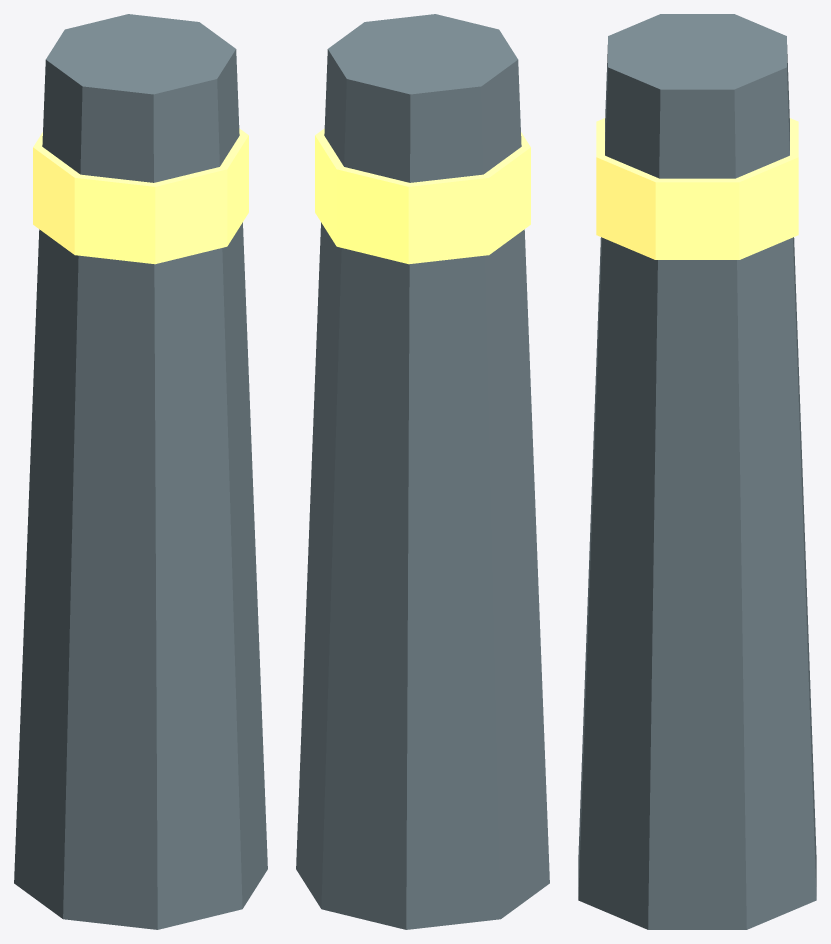
Rendered from Street_Bollard.glb.
3 renders of one model, left to right at view 1: azimuth 30°, elevation 25°; view 2: azimuth 150°, elevation 25°; view 3: azimuth 270°, elevation 25°, orthographic.
Parts seen in each view (by area): view 1: Street_Bollard; view 2: Street_Bollard; view 3: Street_Bollard.
Part boxes in pixels (left/top/right/bottom): Street_Bollard: left=14, top=14, right=267, bottom=929; Street_Bollard: left=296, top=14, right=549, bottom=929; Street_Bollard: left=578, top=14, right=816, bottom=929.
Bounding box in the file's own units: 0.2217 × 0.85 × 0.2217.
